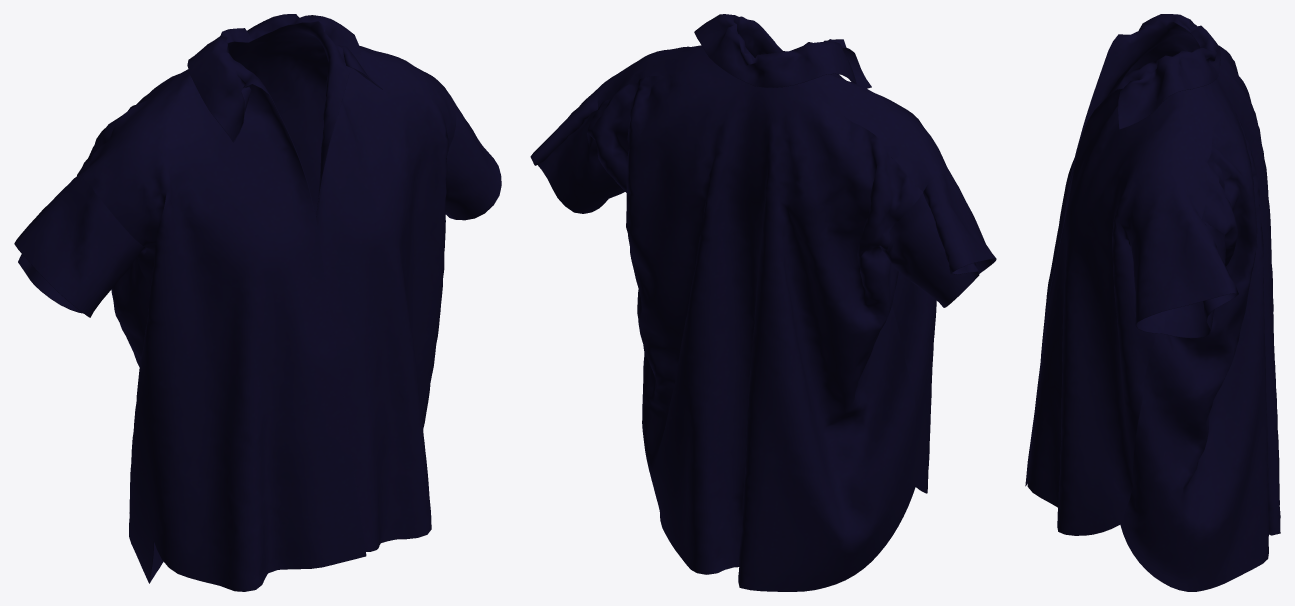
Rendered from FLG_12_03_1.fbx.
3 views of the same model, side by side, from view 1: azimuth 30°, elevation 25°; view 2: azimuth 150°, elevation 25°; view 3: azimuth 270°, elevation 25° (orthographic). The views are drawn at different scales.
Visible parts, largest first — view 1: FLG_12_03_1; view 2: FLG_12_03_1; view 3: FLG_12_03_1.
Part boxes in pixels (left/top/right/bottom): FLG_12_03_1: left=14, top=14, right=501, bottom=591; FLG_12_03_1: left=530, top=14, right=996, bottom=591; FLG_12_03_1: left=1025, top=14, right=1280, bottom=591.
Size of the model in its own units: 69.03 by 78.39 by 35.16.
